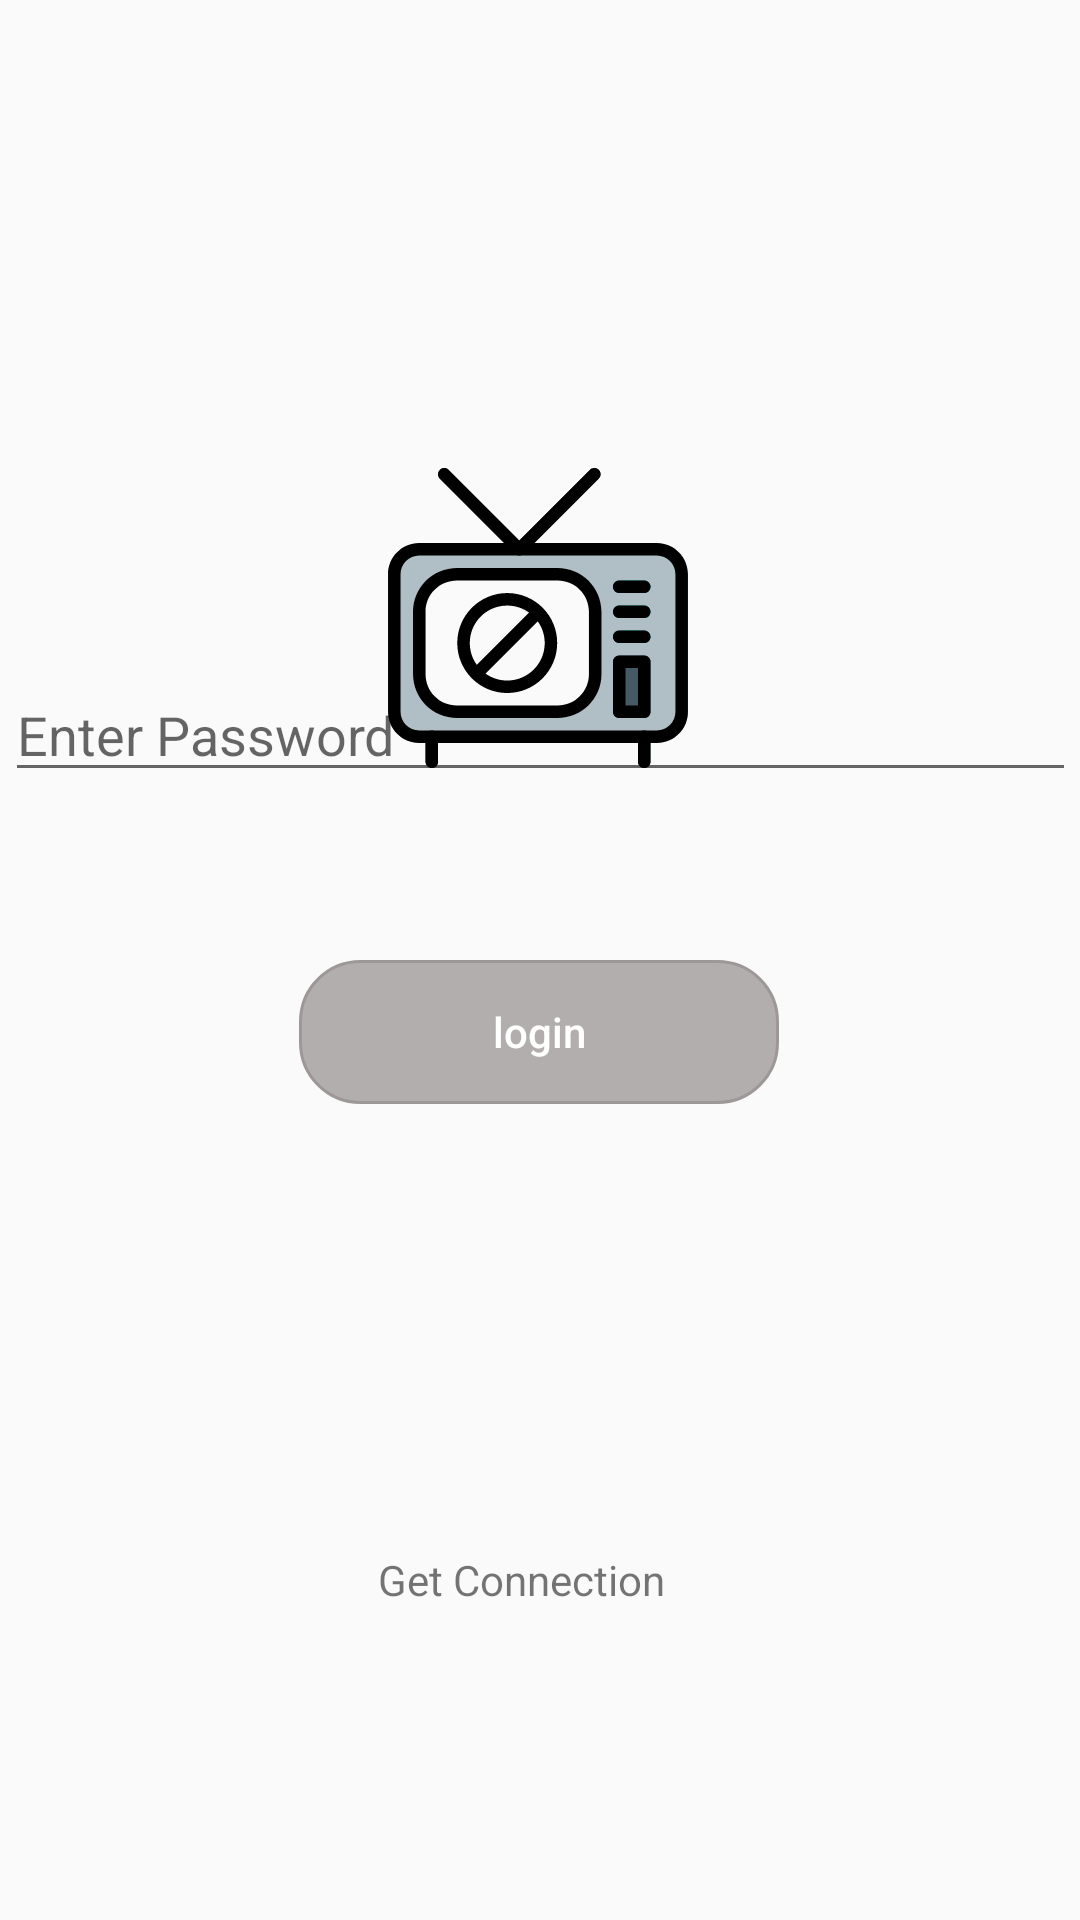

Screen size 1080×1920. Icon name, then its box in pixels as [x1=x1, y1=y1, x2=x2, y2=y2]:
television: [x1=388, y1=468, x2=688, y2=768]
